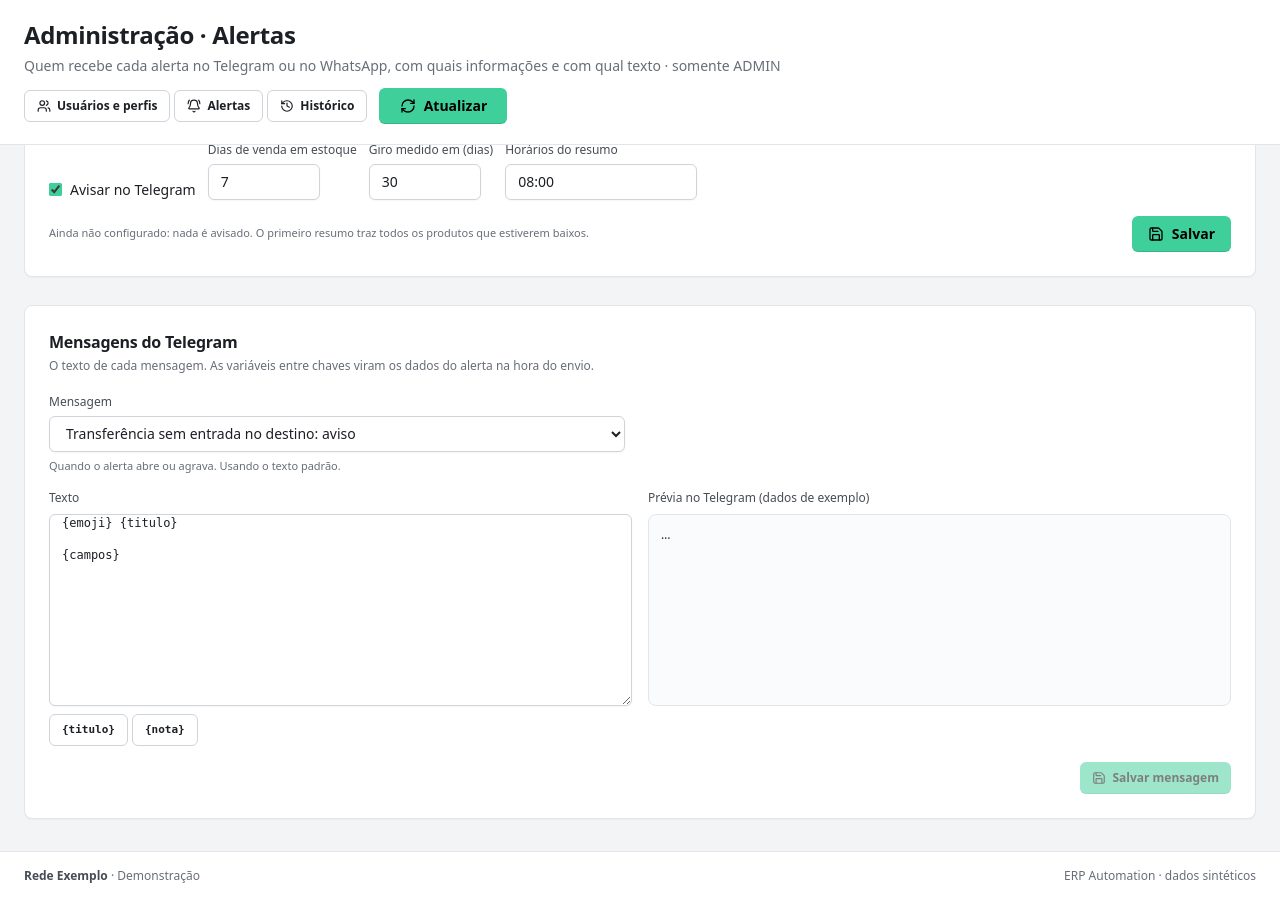
Test: AdminAlertasPage › edita o texto de uma mensagem com variável, prévia e salvar
(page scrolled)
Clear the text box labelled "Texto" at (340, 610), box [49, 514, 632, 706]
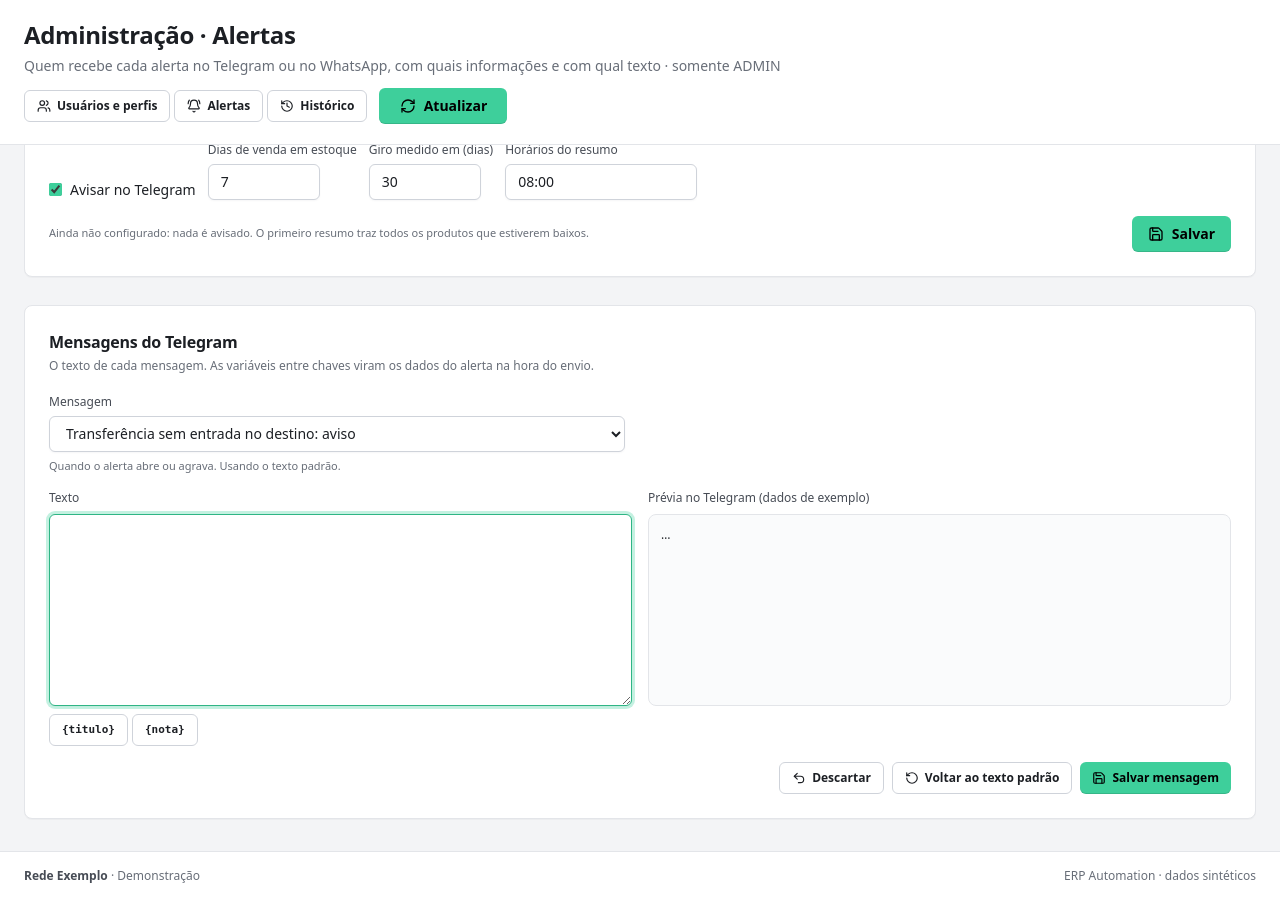
Click the button with aria-label "Inserir Nota" at (165, 730), box [132, 714, 198, 746]
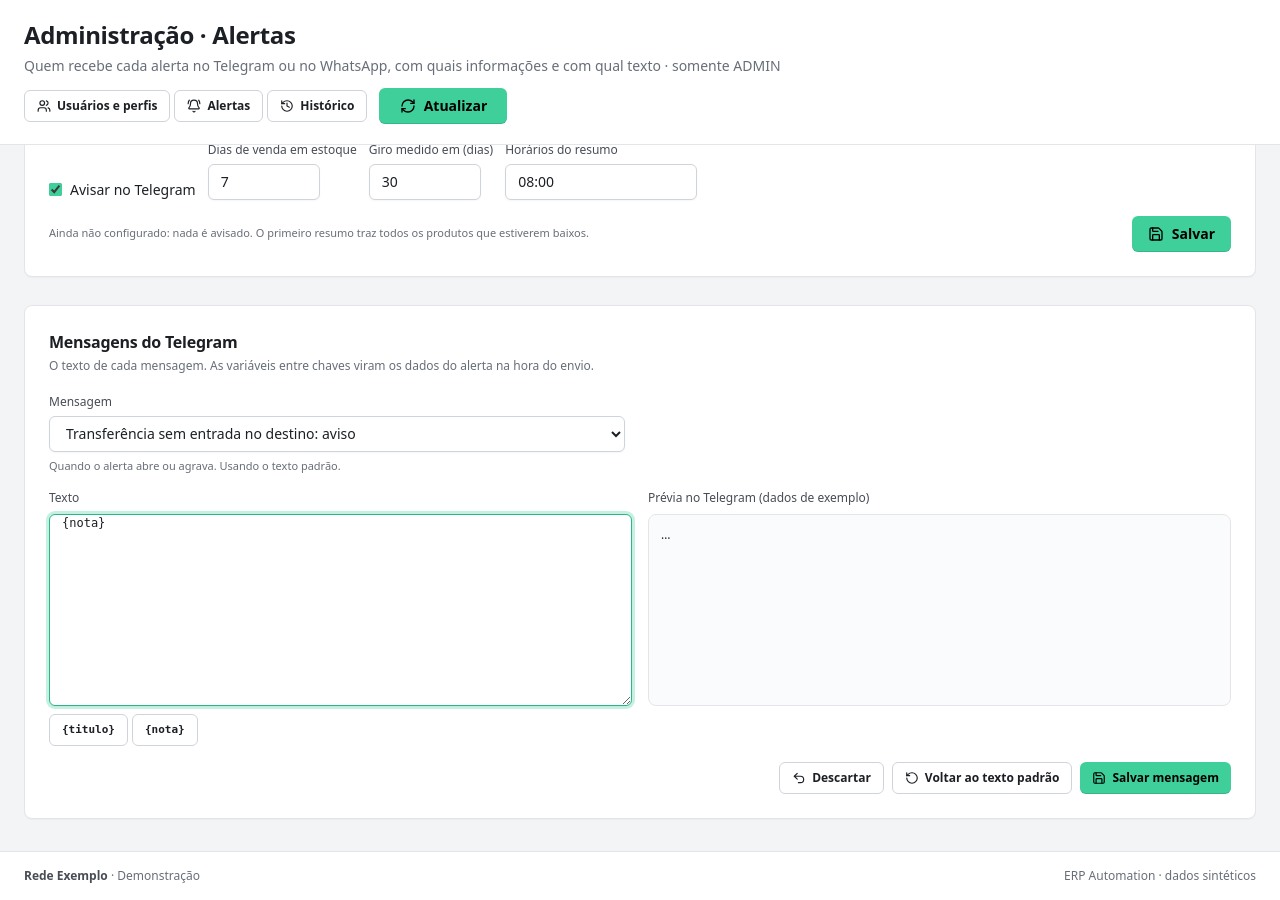
Type " parada" into the text box labelled "Texto" at (340, 610), box [49, 514, 632, 706]
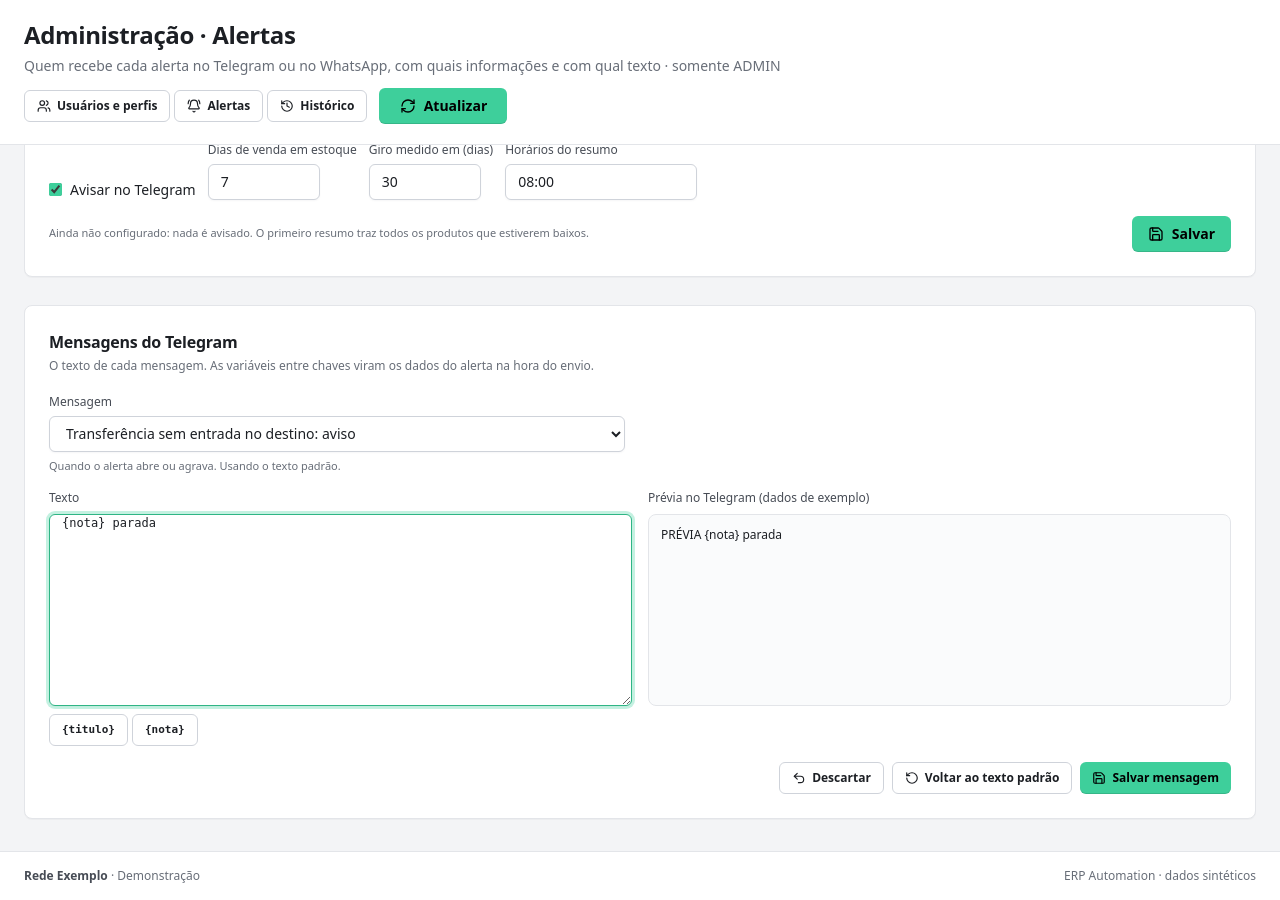
Expected: the text box labelled "Texto" holds "{nota} parada", [49, 514, 632, 706]
Expected: the text "PRÉVIA {nota} parada" is shown, [648, 514, 1231, 706]
Click the button "Salvar mensagem" at (1156, 778), box [1080, 762, 1231, 794]
(page scrolled)
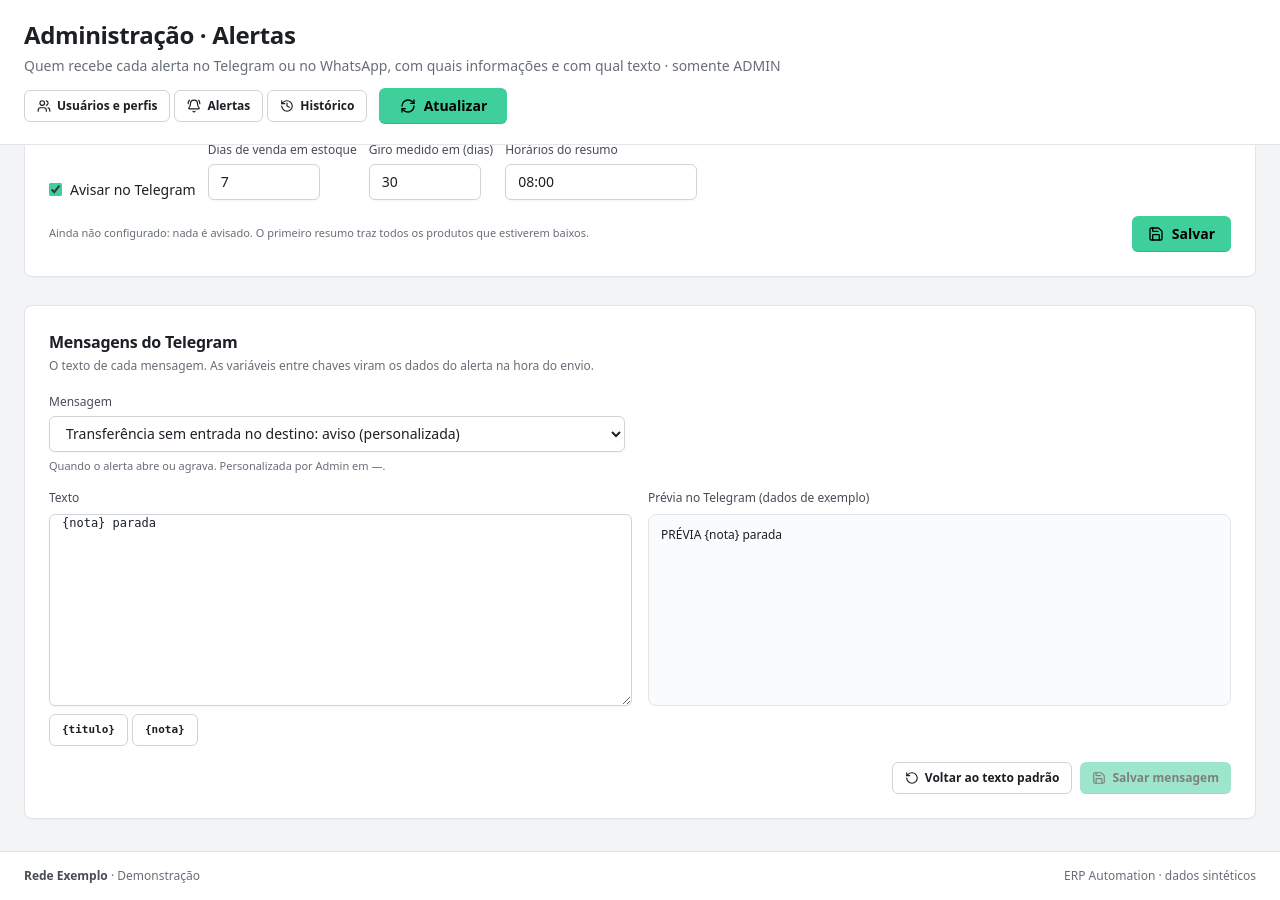
Expected: the text "Personalizada por Admin" is shown, [220, 458, 385, 472]
